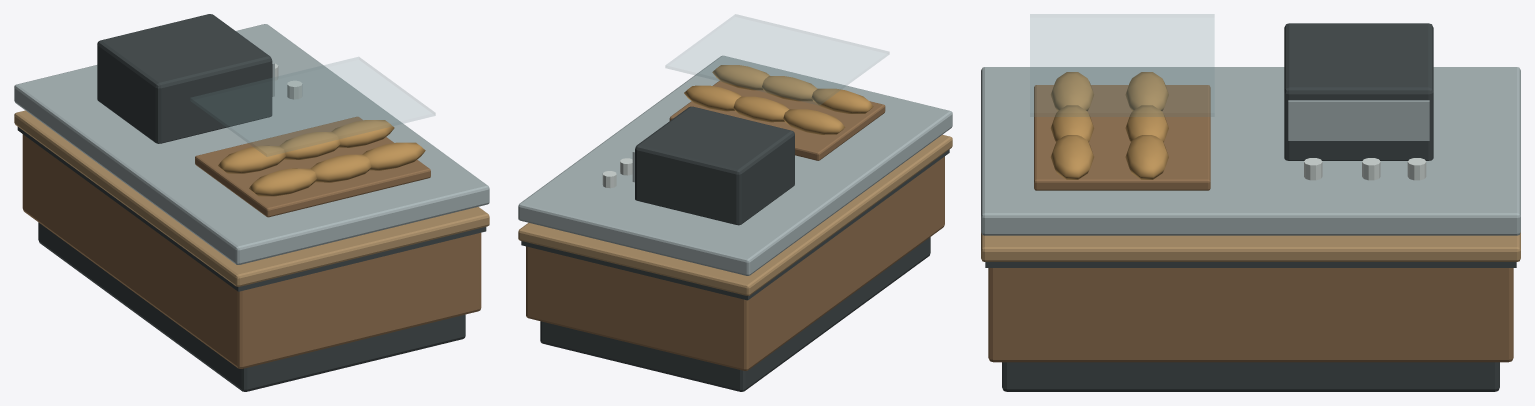
The model's file is bar.glb.
The picture shows the model from 3 angles, left to right: view 1: azimuth 30°, elevation 25°; view 2: azimuth 150°, elevation 25°; view 3: azimuth 270°, elevation 25°; orthographic projection. The views are drawn at different scales.
Visible parts, largest first — view 1: bar_fixture_Oiled warm oak, bar_fixture_Brushed stainless, bar_fixture_Powder-coated graphite, bar_fixture_Smoked glass approximation, bar_fixture_Crate end grain, bar_detail_bread; view 2: bar_fixture_Oiled warm oak, bar_fixture_Brushed stainless, bar_fixture_Powder-coated graphite, bar_fixture_Smoked glass approximation, bar_fixture_Crate end grain, bar_detail_bread, bar_micro_Refrigerator enamel; view 3: bar_fixture_Brushed stainless, bar_fixture_Oiled warm oak, bar_fixture_Powder-coated graphite, bar_fixture_Smoked glass approximation, bar_fixture_Crate end grain, bar_detail_bread, bar_micro_Refrigerator enamel.
Part boxes in pixels (x1,y1,x2,y2): bar_fixture_Oiled warm oak: [22, 116, 481, 368]; bar_fixture_Brushed stainless: [14, 24, 489, 264]; bar_fixture_Powder-coated graphite: [17, 14, 486, 391]; bar_fixture_Smoked glass approximation: [190, 57, 435, 156]; bar_fixture_Crate end grain: [14, 110, 489, 286]; bar_detail_bread: [218, 120, 425, 196]; bar_fixture_Oiled warm oak: [526, 80, 944, 370]; bar_fixture_Brushed stainless: [518, 55, 952, 275]; bar_fixture_Powder-coated graphite: [521, 106, 949, 391]; bar_fixture_Smoked glass approximation: [665, 14, 889, 105]; bar_fixture_Crate end grain: [518, 134, 952, 295]; bar_detail_bread: [684, 65, 873, 134]; bar_micro_Refrigerator enamel: [602, 158, 632, 188]; bar_fixture_Brushed stainless: [981, 67, 1520, 235]; bar_fixture_Oiled warm oak: [988, 85, 1513, 362]; bar_fixture_Powder-coated graphite: [985, 23, 1516, 391]; bar_fixture_Smoked glass approximation: [1030, 14, 1214, 116]; bar_fixture_Crate end grain: [981, 232, 1520, 261]; bar_detail_bread: [1050, 72, 1168, 179]; bar_micro_Refrigerator enamel: [1304, 158, 1426, 180].
Bounding box in the file's own units: 1.7 × 1.43 × 2.6.
